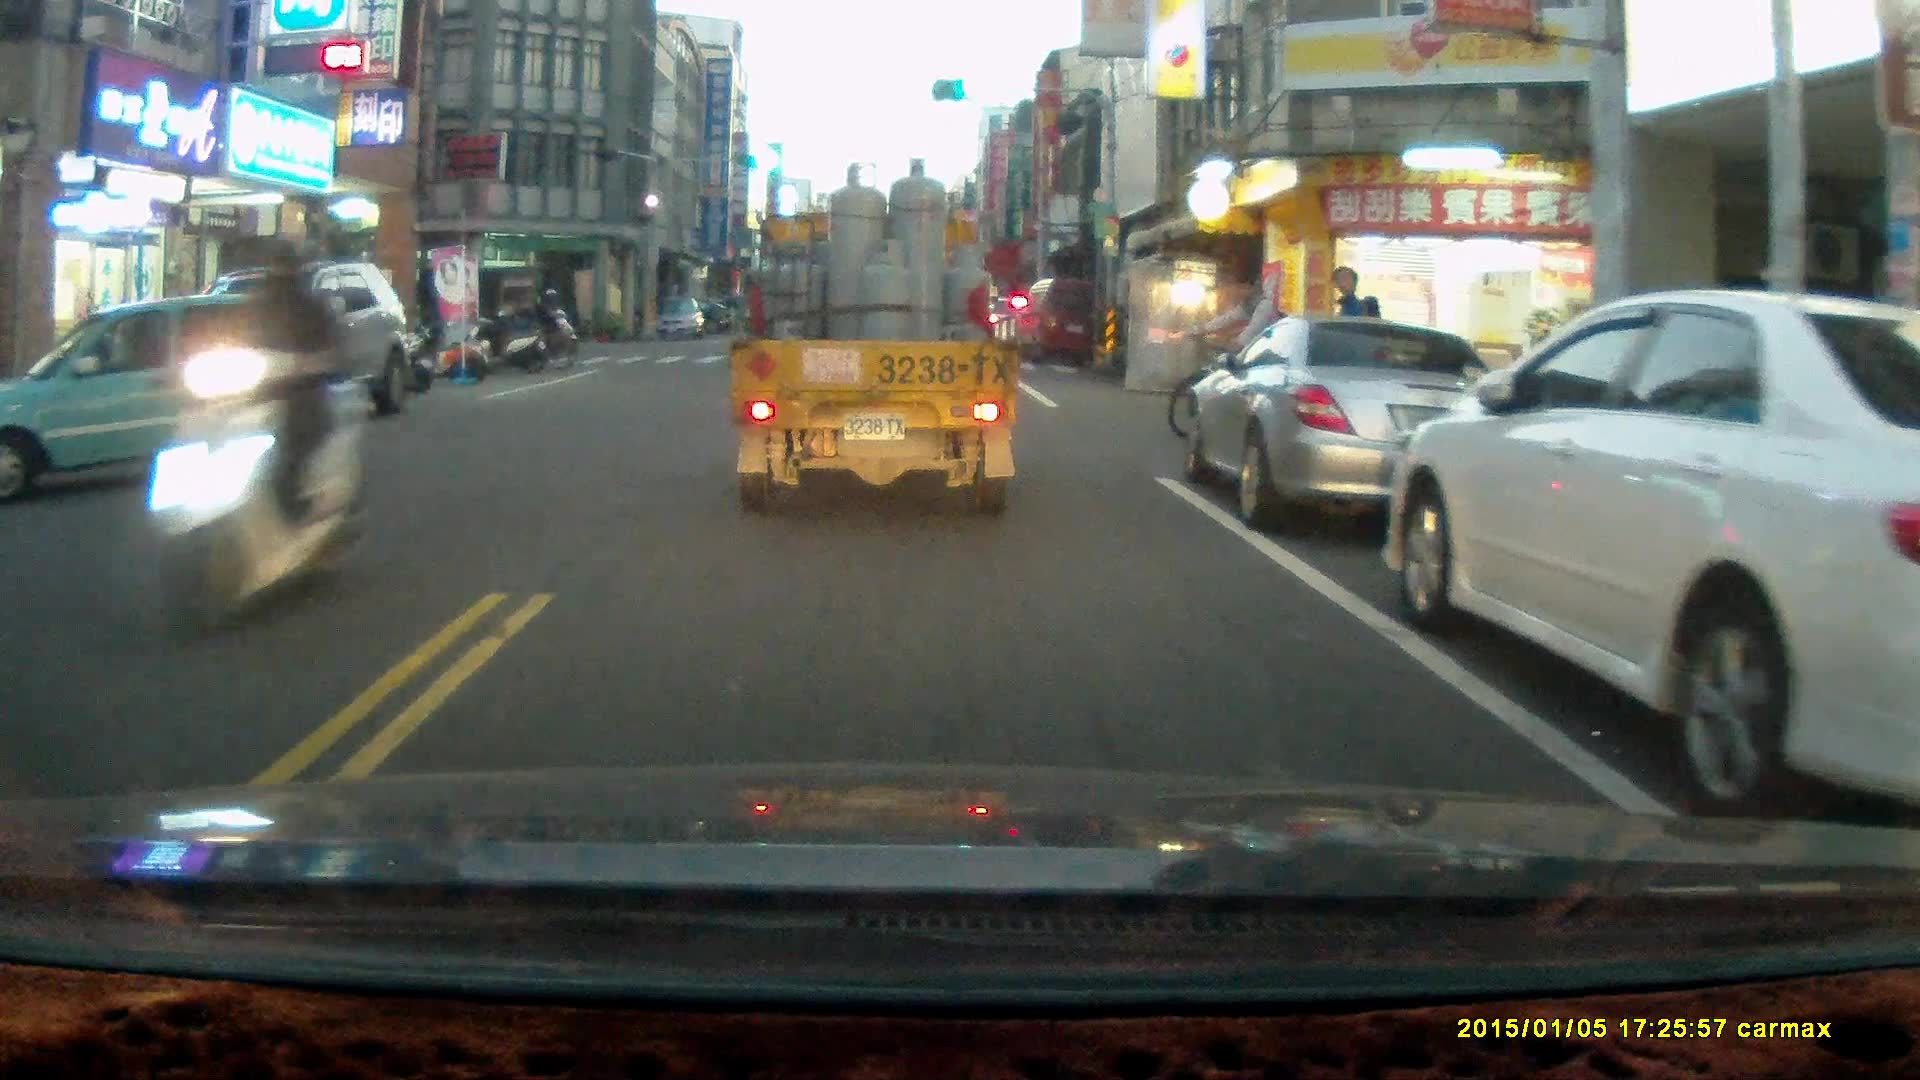rider: (148, 233, 362, 651), (1169, 271, 1330, 450), (518, 285, 581, 358)
vehicle: (1389, 283, 1920, 800), (731, 158, 1022, 517), (1185, 316, 1530, 527), (1, 290, 331, 490), (333, 261, 542, 365), (1020, 271, 1123, 365), (654, 296, 708, 341)
